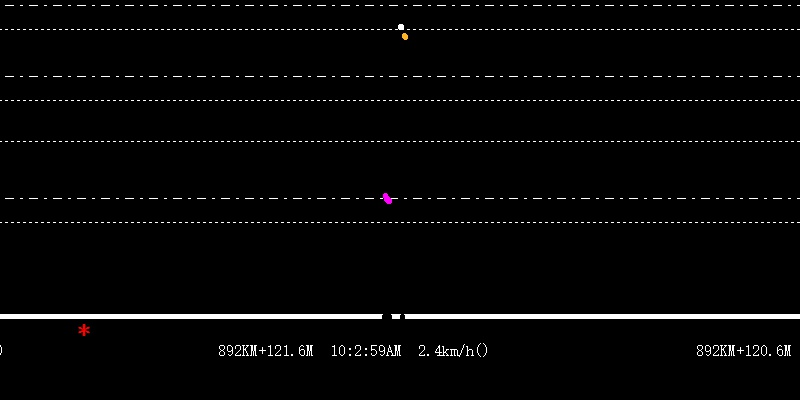face_2: (396, 17, 405, 30)
face_down: (401, 25, 410, 41)
star: (75, 321, 92, 337)
